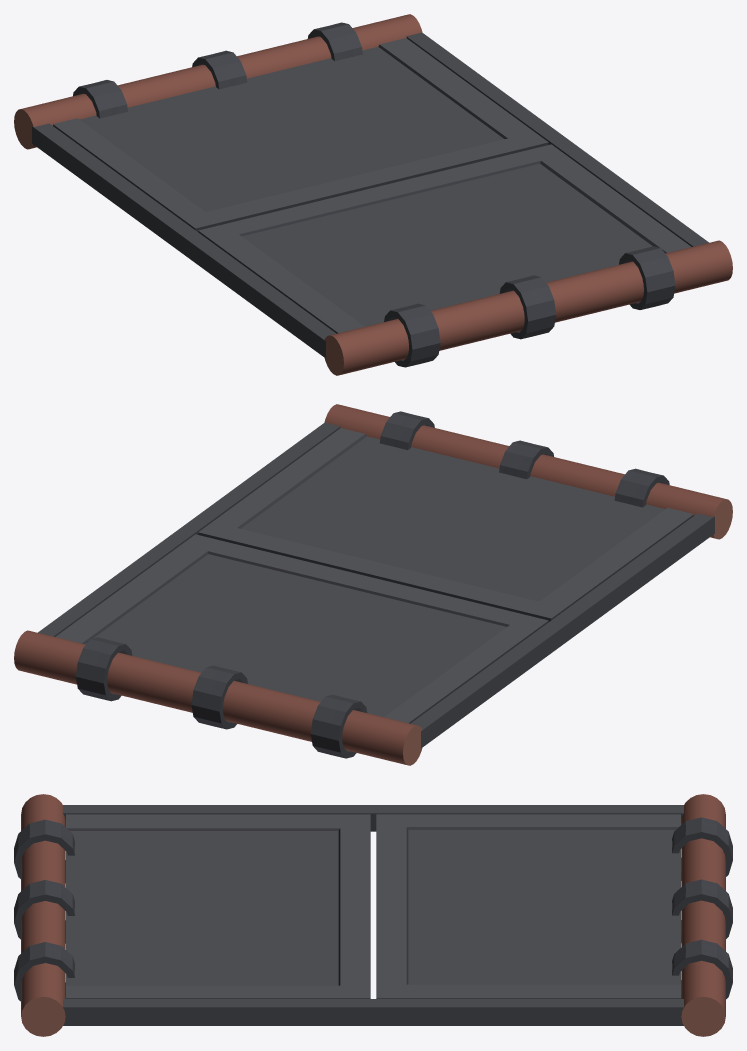
Rendered from Trap_door.fbx.
3 views of the same model, one above another, from view 1: azimuth 30°, elevation 25°; view 2: azimuth 150°, elevation 25°; view 3: azimuth 270°, elevation 25° (orthographic). The views are drawn at different scales.
Parts seen in each view (by area): view 1: door2, door1, pCube3; view 2: door1, door2, pCube3; view 3: door1, door2, pCube3.
Part boxes in pixels (box(x1,y1,x2,y2)): door2: box(198, 144, 732, 375); door1: box(14, 14, 548, 231); pCube3: box(32, 32, 708, 358); door1: box(14, 534, 548, 765); door2: box(198, 404, 732, 621); pCube3: box(38, 422, 714, 748); door1: box(376, 794, 732, 1036); door2: box(14, 794, 370, 1036); pCube3: box(63, 805, 683, 1025).
Bounding box in the file's own units: 44.98 × 5.91 × 67.43.
